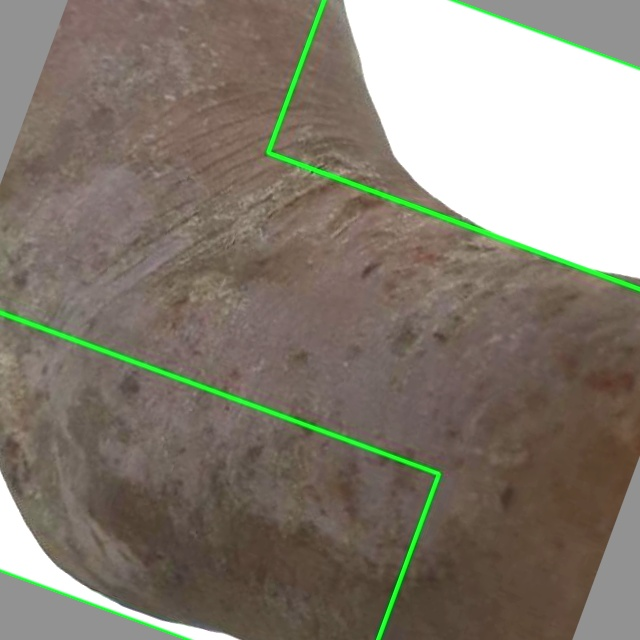Eczema: (0, 312, 438, 639), (268, 0, 639, 288)
